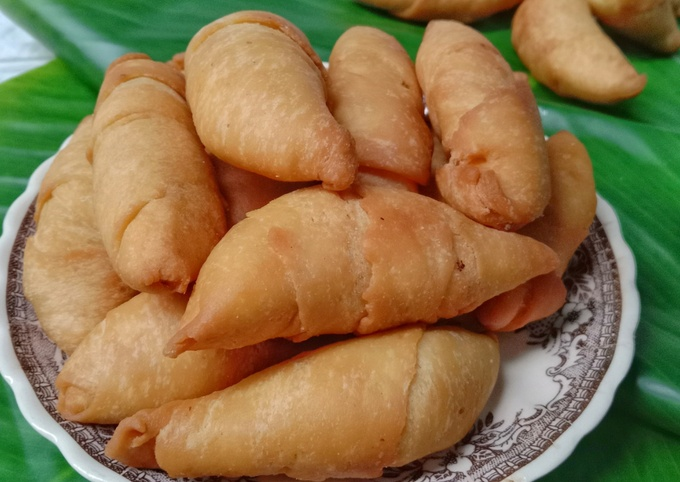pisang_molen: (162, 175, 565, 337), (103, 324, 504, 476), (185, 6, 360, 194), (91, 53, 223, 295), (414, 20, 548, 223)
